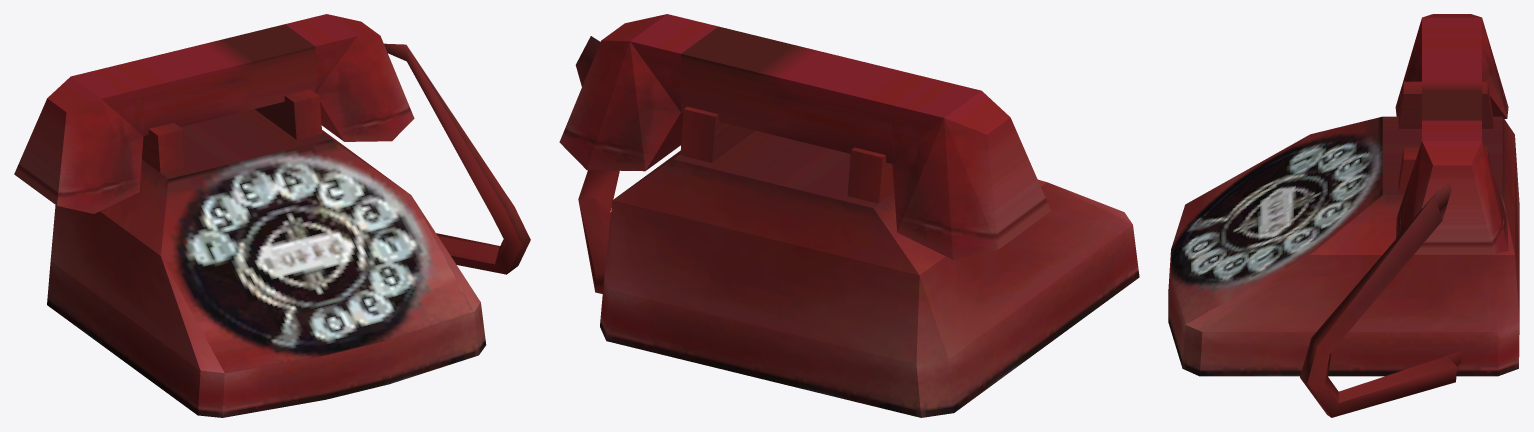
File: genphon01.fbx
The picture shows the model from 3 angles, left to right: view 1: azimuth 30°, elevation 25°; view 2: azimuth 150°, elevation 25°; view 3: azimuth 270°, elevation 25°; orthographic projection. The views are drawn at different scales.
Visible parts, largest first — view 1: mesh_0; view 2: mesh_0; view 3: mesh_0.
Boxes of the visible parts, bbox=[...] form: mesh_0: bbox=[14, 14, 530, 417]; mesh_0: bbox=[559, 14, 1139, 417]; mesh_0: bbox=[1168, 14, 1519, 417].
Size of the model in its own units: 20.38 by 10.64 by 14.88.
1 material, 1 textured.
